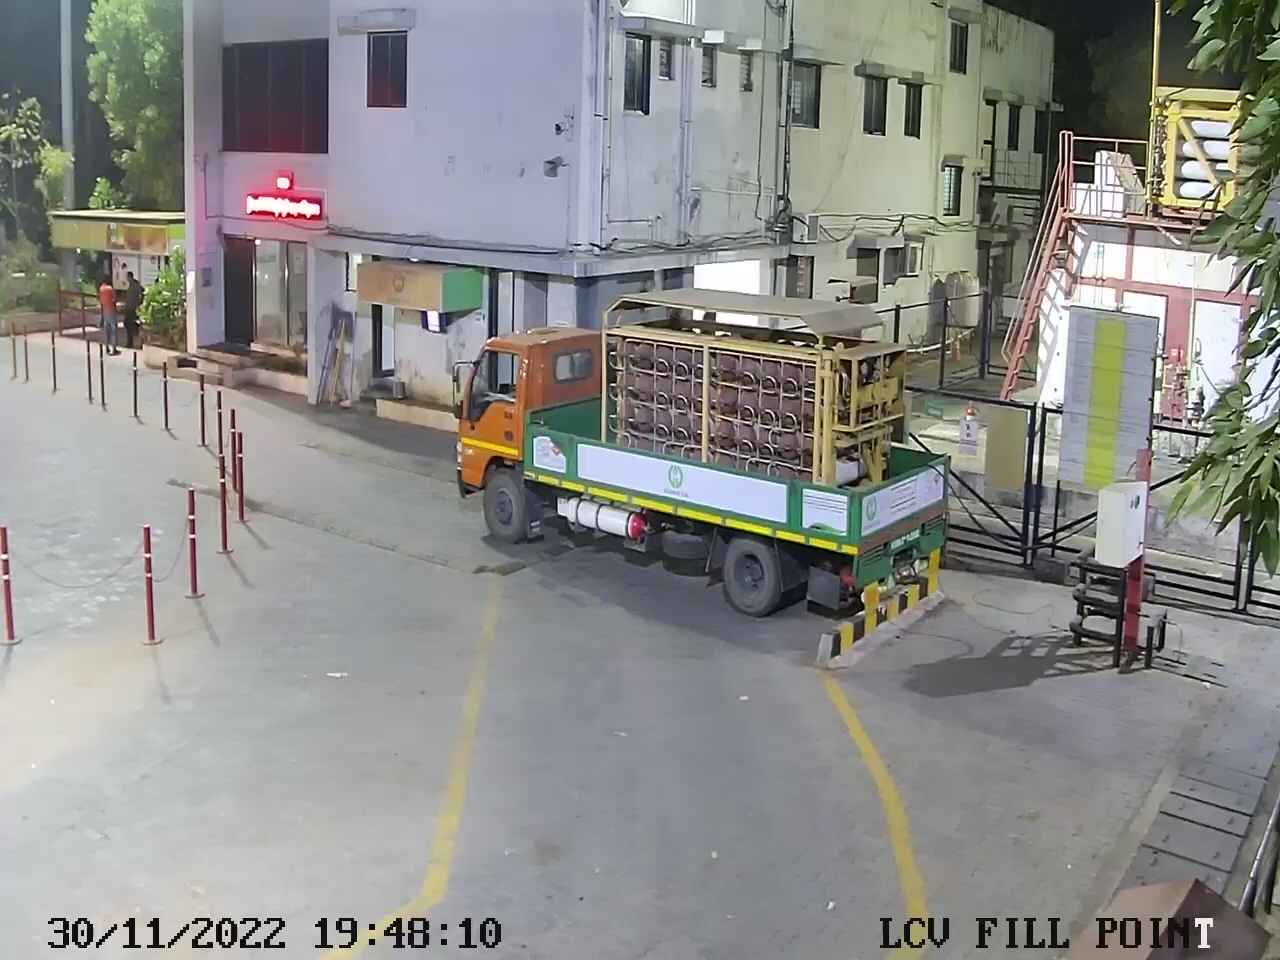HMV: (444, 275, 957, 626)
